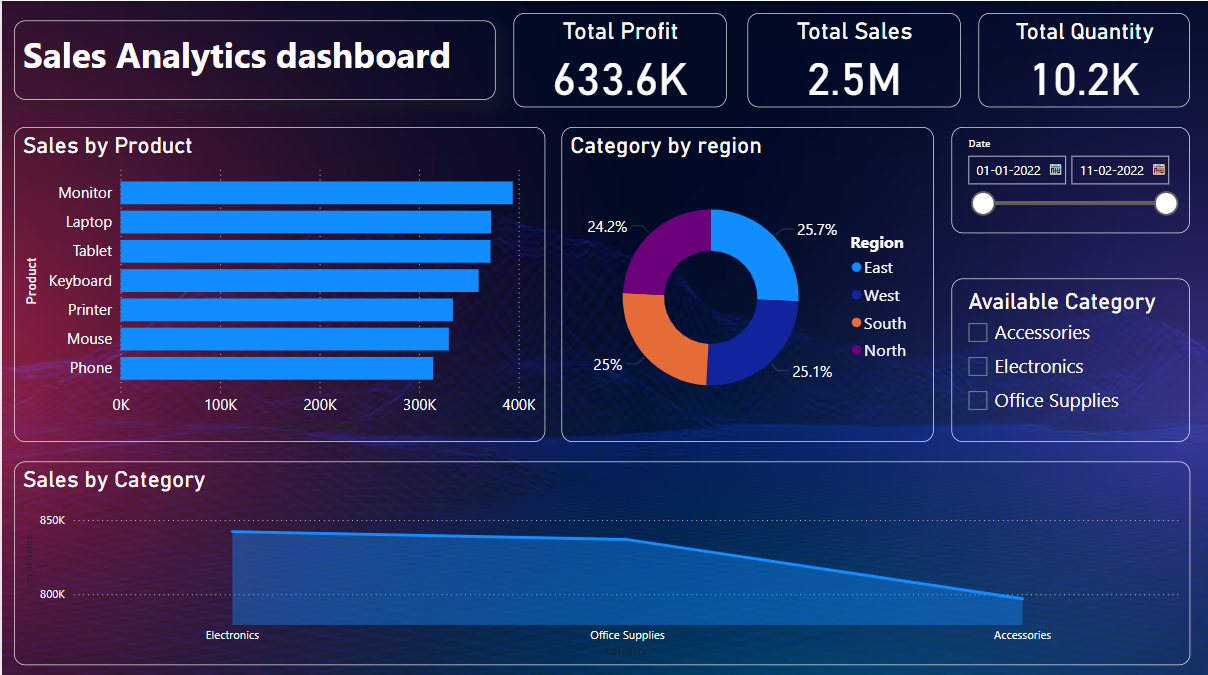

The page's visual inventory and layout, read from the dashboard file:
{"tool":"powerbi","page":{"name":"Page 1","canvas":[1280,720],"ordinal":0},"visuals":[{"type":"card","title":"Total Profit","fields":{"Values":["Sum(Sales_Dashboard_Large.Profit)"]},"box":[542.4,12.7,225.9,100.2],"z":0},{"type":"card","title":"Total Sales","fields":{"Values":["Sum(Sales_Dashboard_Large.Sales)"]},"box":[790.5,12.7,225.9,100.2],"z":1000},{"type":"barChart","title":"Sales by Product","fields":{"Category":["Sales_Dashboard_Large.Product"],"Y":["Sum(Sales_Dashboard_Large.Sales)"]},"box":[12.7,133.6,563.1,334],"z":2000},{"type":"slicer","fields":{"Values":["Sales_Dashboard_Large.Date"]},"box":[1006.9,133.6,252.9,112.9],"z":3000},{"type":"donutChart","title":" Category by region","fields":{"Y":["CountNonNull(Sales_Dashboard_Large.Category)"],"Category":["Sales_Dashboard_Large.Region"]},"box":[593.3,133.6,394.5,334],"z":4000},{"type":"card","title":"Total Quantity","fields":{"Values":["Sum(Sales_Dashboard_Large.Quantity)"]},"box":[1035.5,12.7,224.3,100.2],"z":5000},{"type":"textbox","box":[12.7,20.7,510.6,84.3],"z":6000},{"type":"slicer","fields":{"Values":["Sales_Dashboard_Large.Category"]},"box":[1006.9,294.3,252.9,173.4],"z":7000},{"type":"stackedAreaChart","title":"Sales by Category","fields":{"Y":["Sum(Sales_Dashboard_Large.Sales)"],"Category":["Sales_Dashboard_Large.Category"]},"box":[12.7,488.3,1247,216.3],"z":8000}]}

Visuals, with their boxes in screenshot pixels (x1, y1, x2, y2), scaled from the page's 1280x720 canvas onto the 1208x675 screenshot:
"Total Profit" card: (x1=512, y1=12, x2=725, y2=106)
"Total Sales" card: (x1=746, y1=12, x2=959, y2=106)
"Sales by Product" barChart: (x1=12, y1=125, x2=543, y2=438)
slicer - Sales_Dashboard_Large.Date: (x1=950, y1=125, x2=1189, y2=231)
" Category by region" donutChart: (x1=560, y1=125, x2=932, y2=438)
"Total Quantity" card: (x1=977, y1=12, x2=1189, y2=106)
textbox: (x1=12, y1=19, x2=494, y2=98)
slicer - Sales_Dashboard_Large.Category: (x1=950, y1=276, x2=1189, y2=438)
"Sales by Category" stackedAreaChart: (x1=12, y1=458, x2=1189, y2=661)
